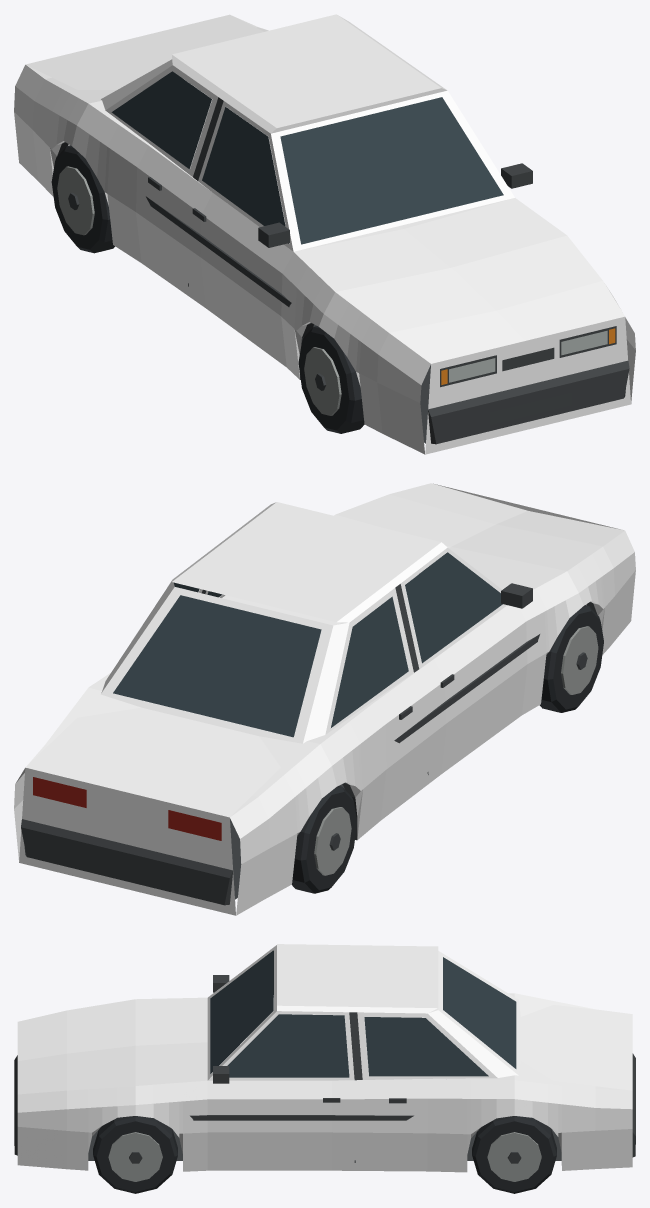
File: sanga_kikyo.glb
The picture shows the model from 3 angles, top to bottom: view 1: azimuth 30°, elevation 25°; view 2: azimuth 150°, elevation 25°; view 3: azimuth 270°, elevation 25°; orthographic projection. The views are drawn at different scales.
Parts seen in each view (by area): view 1: sanga_kikyo; view 2: sanga_kikyo; view 3: sanga_kikyo.
Part boxes in pixels (x1,y1,x2,y2): sanga_kikyo: [14, 14, 635, 454]; sanga_kikyo: [14, 483, 635, 915]; sanga_kikyo: [14, 944, 635, 1193].
Bounding box in the file's own units: 1.74 × 1.41 × 4.61.
8 materials, 1 textured.
